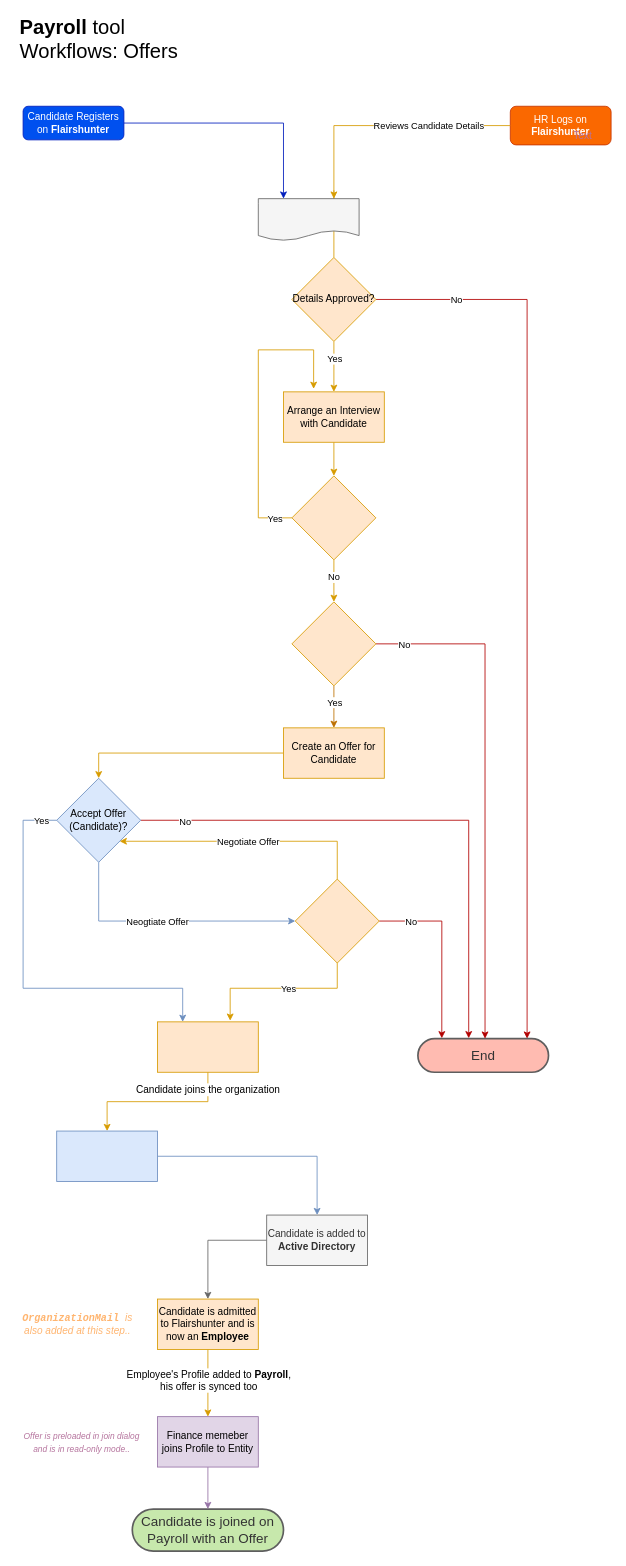
Image size: 626x1566. Some labels were removed from this diagram. Each missing label, with the centre of its shape:
"Assign an Offer to Candidate's Profile" belongs at [207,1046].
"Candidate completed his profile and details" belongs at [308,219].
"Candidate completes missing papers and details" belongs at [107,1155].
"Candidate valid for position?" belongs at [333,643].
"Confrim Offer (HR)?" belongs at [336,920].
"Need further meetings?" belongs at [333,517].
